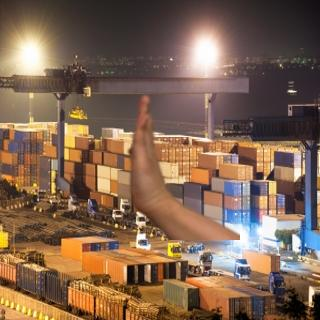RIGHT: (124, 88, 173, 219)
